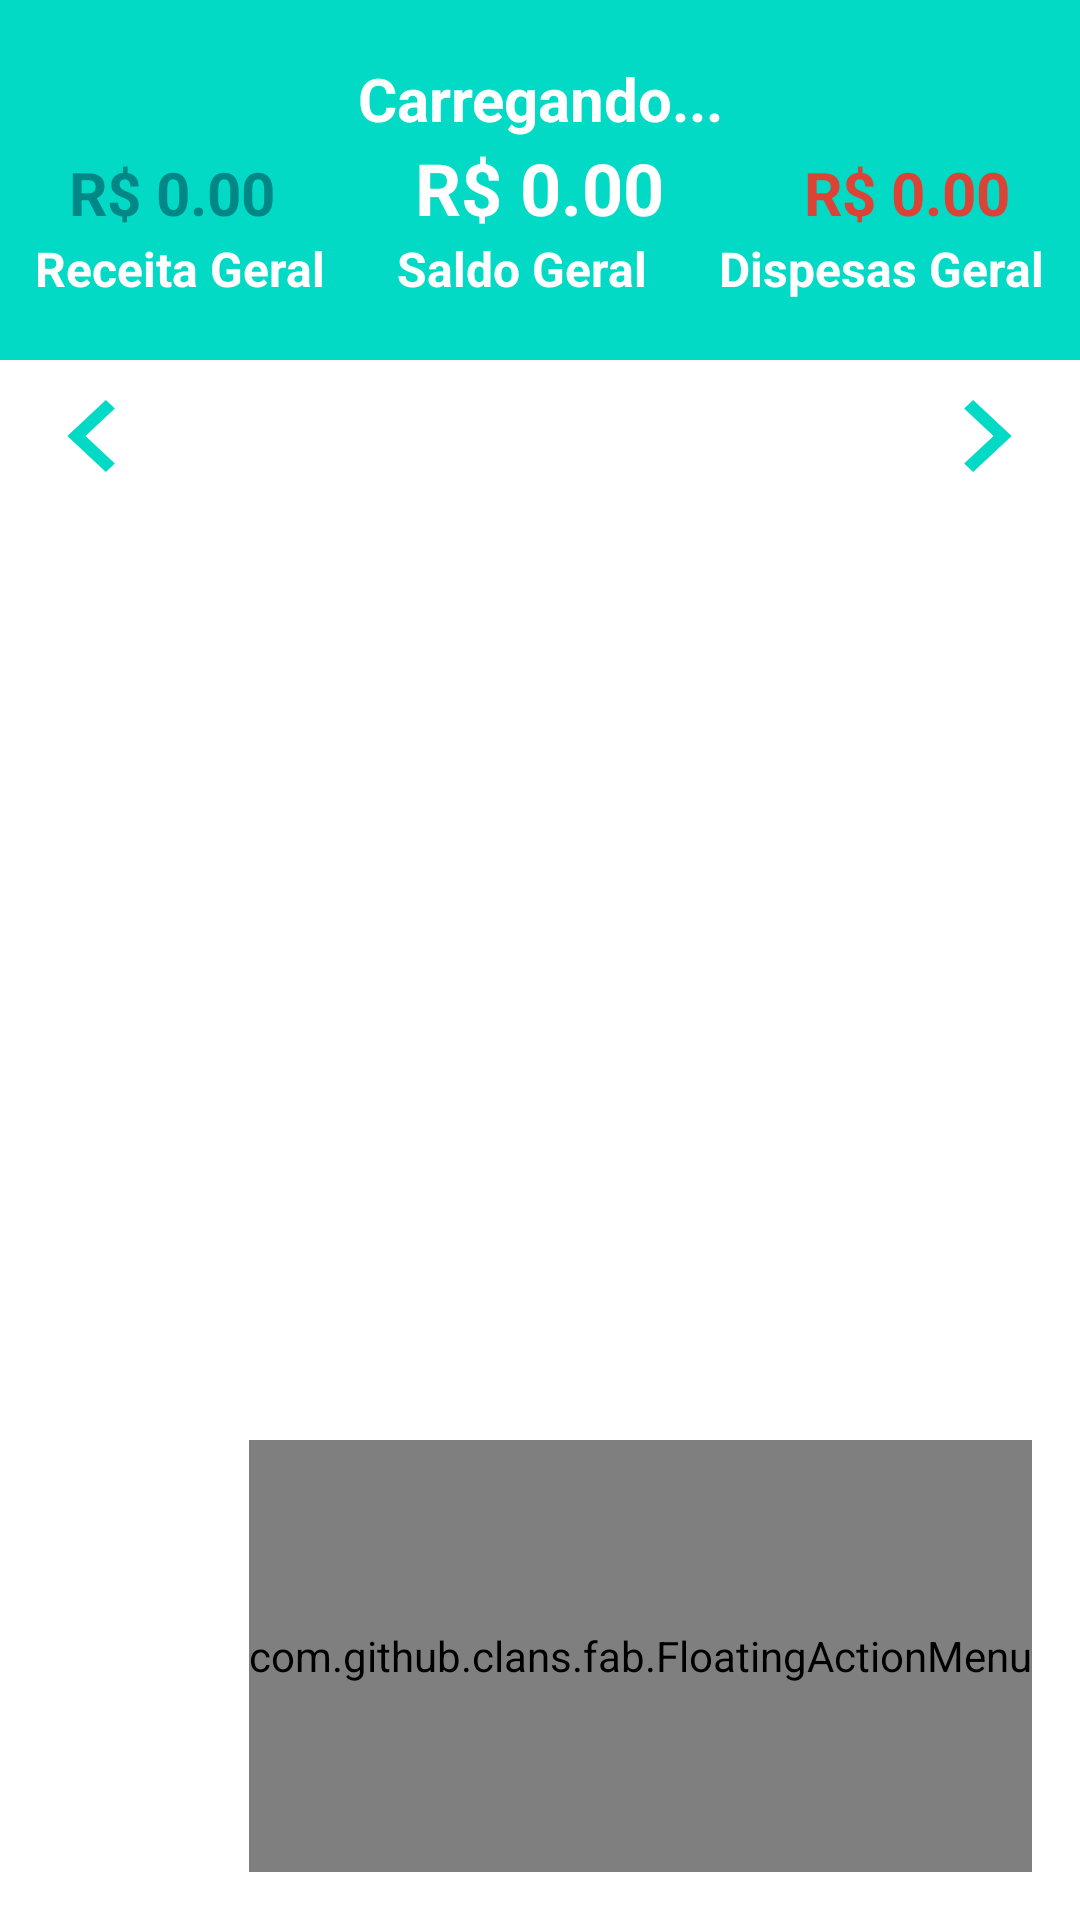

Screen size 1080px x 1920px. Icon name, then its box in pixels as [left=x1, top=y1, right=x2, bottom=y2]:
keyboard arrow left: [left=67, top=400, right=115, bottom=472]
keyboard arrow right: [left=964, top=400, right=1012, bottom=472]
